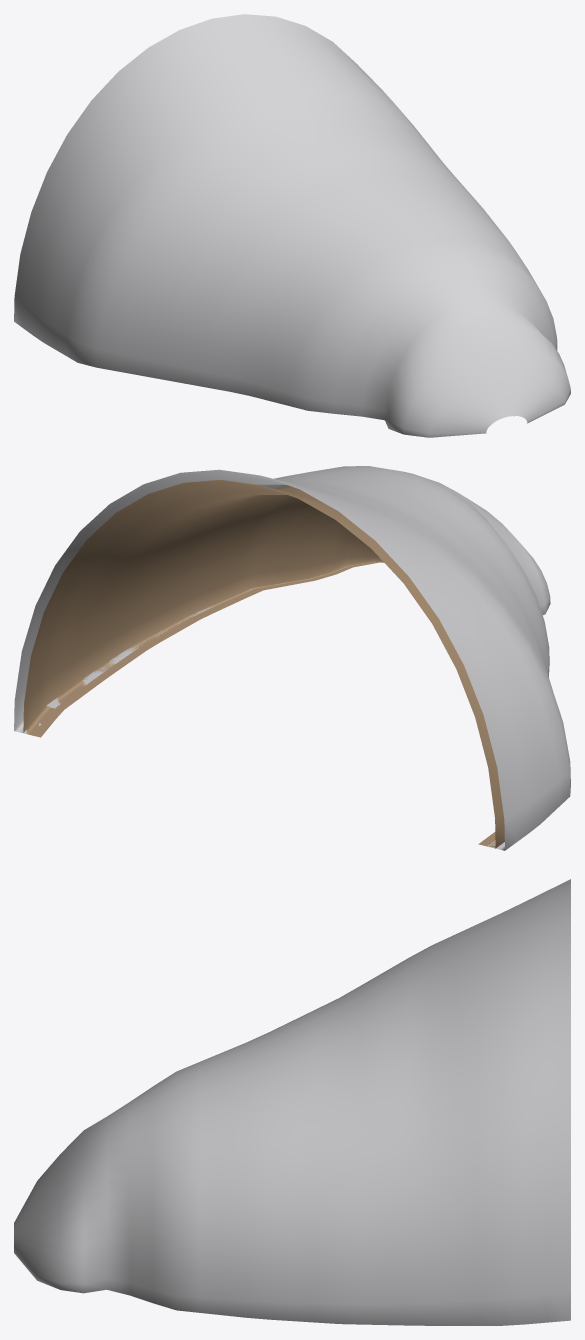
Rendered from SabatonLeanToe_R.glb.
3 renders of one model, top to bottom at view 1: azimuth 30°, elevation 25°; view 2: azimuth 150°, elevation 25°; view 3: azimuth 270°, elevation 25°, orthographic. The views are drawn at different scales.
Parts seen in each view (by area): view 1: SabatonLeanToe_R; view 2: SabatonLeanToe_R; view 3: SabatonLeanToe_R.
Part boxes in pixels (x1,y1,x2,y2): SabatonLeanToe_R: (14, 14, 570, 437); SabatonLeanToe_R: (14, 466, 570, 850); SabatonLeanToe_R: (14, 879, 570, 1325).
Bounding box in the file's own units: 0.1337 × 0.0803 × 0.133.
